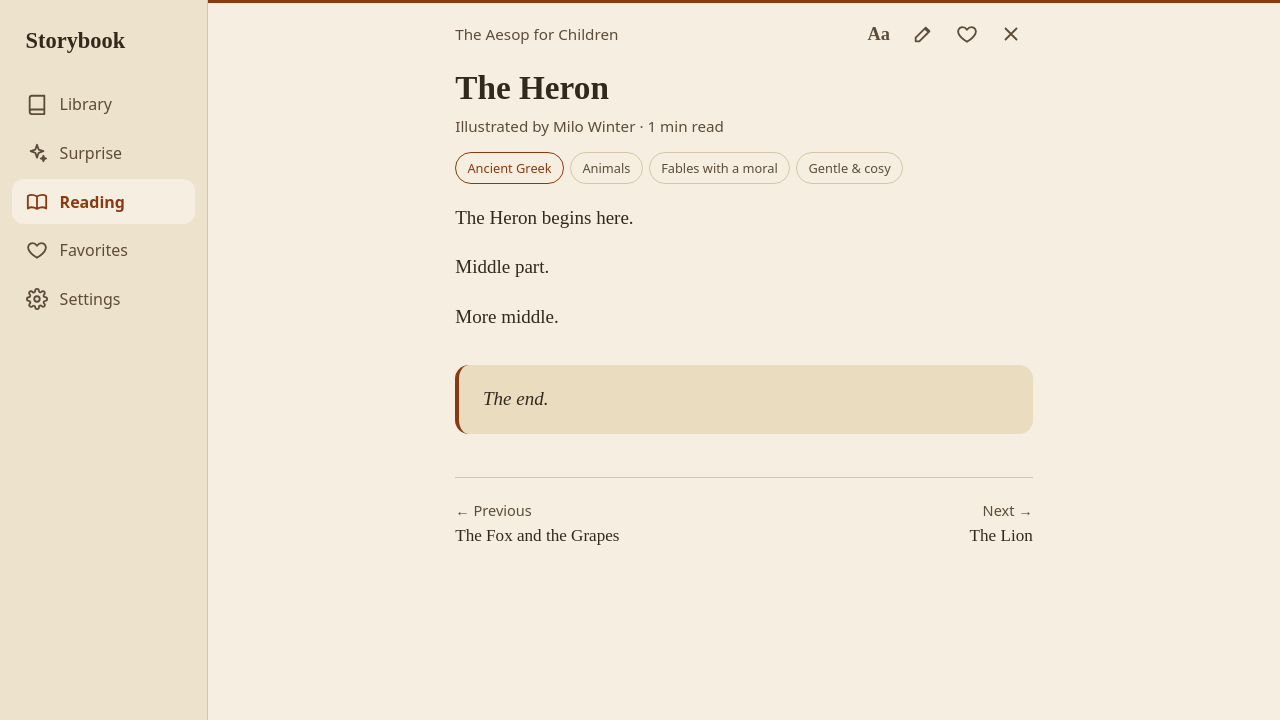
Scenario: tab bar › tapping Reading while reading closes the book and shows the shelf
Expected: the text "The Heron begins here." is shown, left=455, top=207, right=634, bottom=228
Step 1. Click the link "Reading" → click(104, 202), box left=12, top=179, right=195, bottom=224
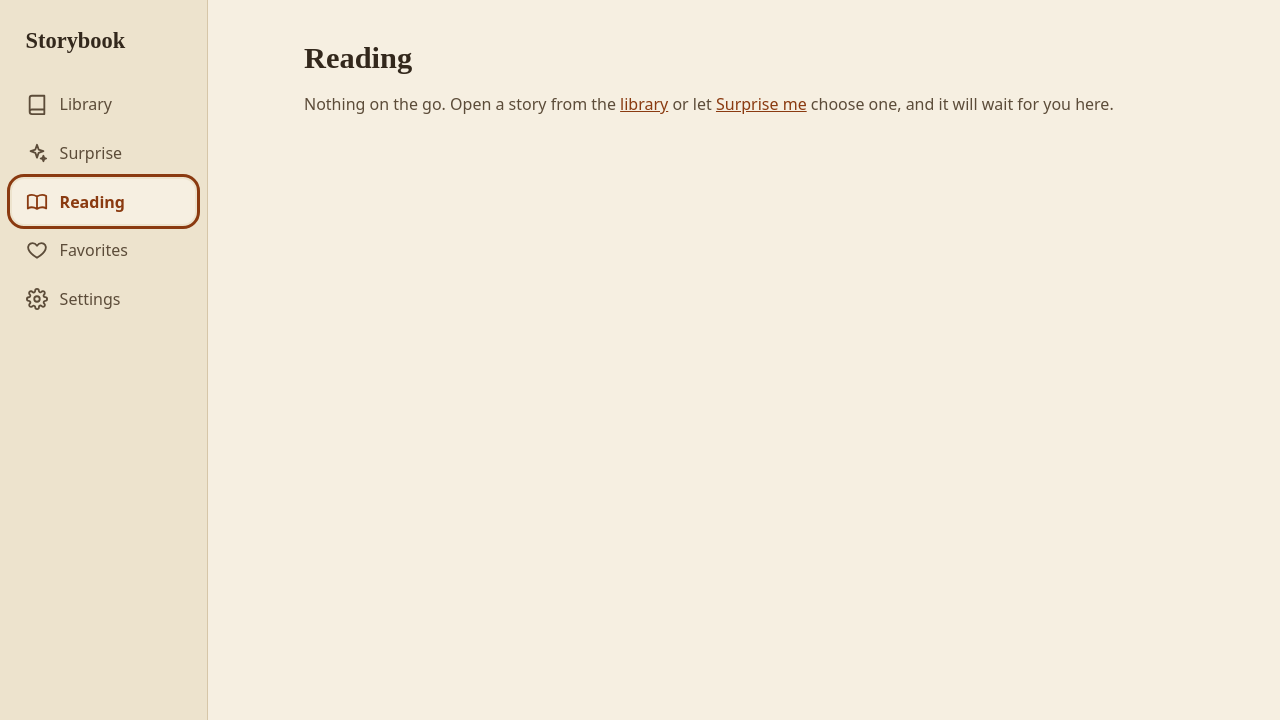
Expected: the heading "Reading" is shown, left=304, top=41, right=412, bottom=75
